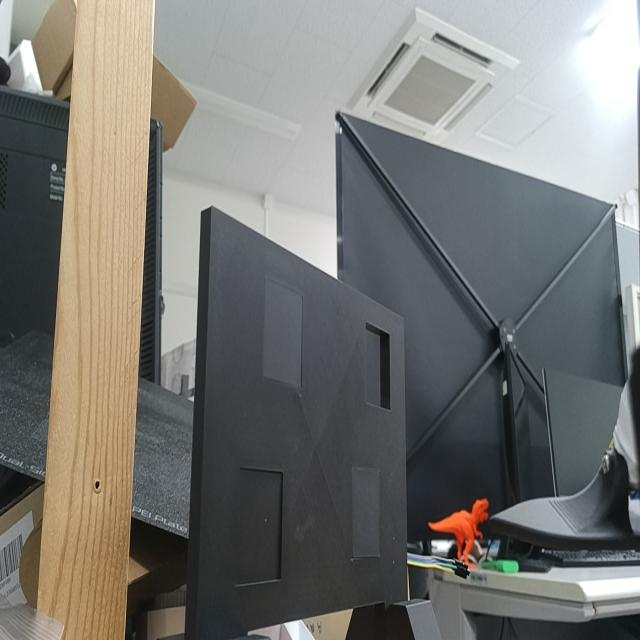Obstacle: (367, 327, 390, 408)
Wall: (192, 203, 408, 639)
